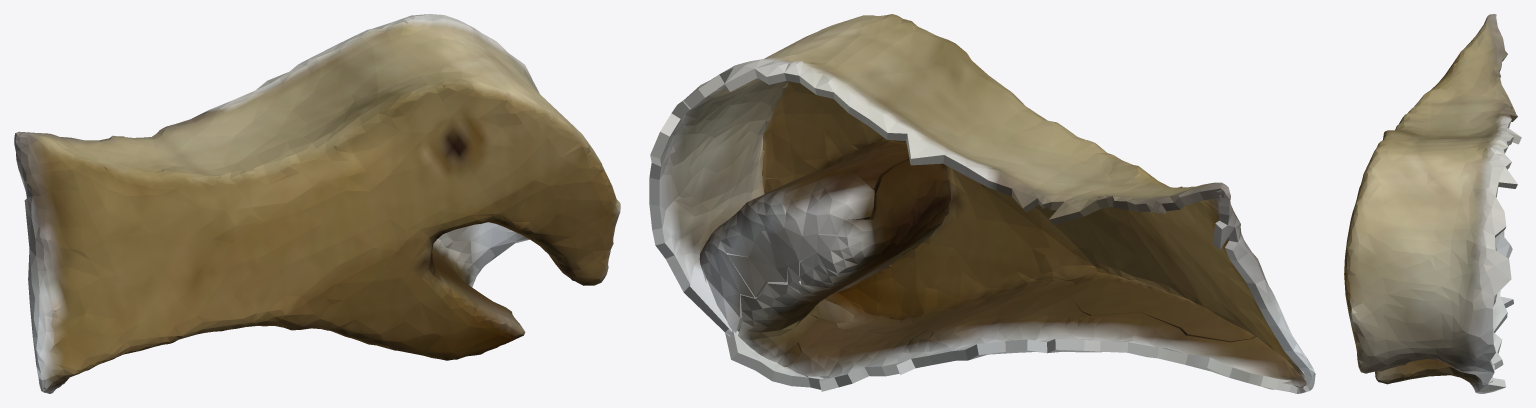
Rendered from TwistFamily.glb.
3 views of the same model, side by side, from view 1: azimuth 30°, elevation 25°; view 2: azimuth 150°, elevation 25°; view 3: azimuth 270°, elevation 25° (orthographic). The views are drawn at different scales.
Parts seen in each view (by area): view 1: mesh.010; view 2: mesh.010; view 3: mesh.010.
Part boxes in pixels (left/top/right/bottom): mesh.010: left=14, top=14, right=620, bottom=393; mesh.010: left=649, top=14, right=1315, bottom=393; mesh.010: left=1344, top=14, right=1521, bottom=393.
Bounding box in the file's own units: 0.8554 × 0.4357 × 0.3002.
Materials: 1 (1 with a texture image).
